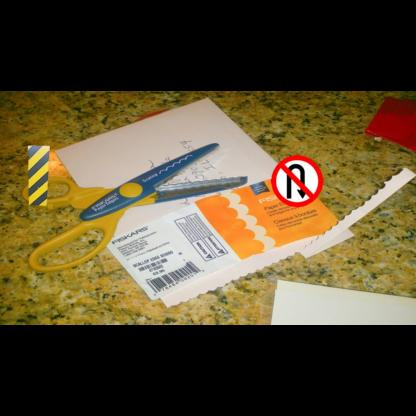O-MP: (28, 145, 50, 206)
